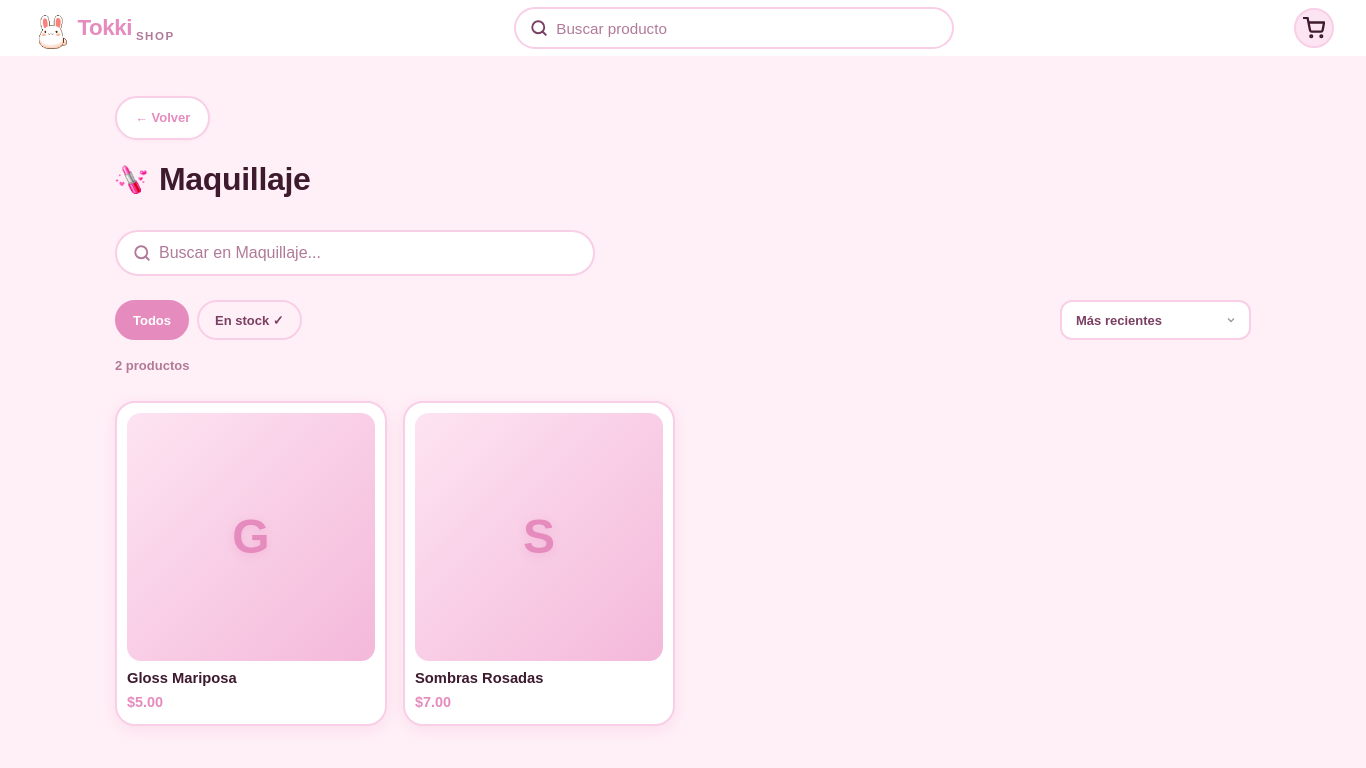
CategoryPage — búsqueda por nombre + descripción › mantiene visible el producto cuyo término solo aparece en la descripción
Expected: the text "Gloss Mariposa" is shown, [127, 670, 237, 686]
Expected: the text "Sombras Rosadas" is shown, [415, 670, 543, 686]
In the field with placeholder "Buscar en Maquillaje...": (368, 253) [159, 244, 577, 262], type "hidratante"
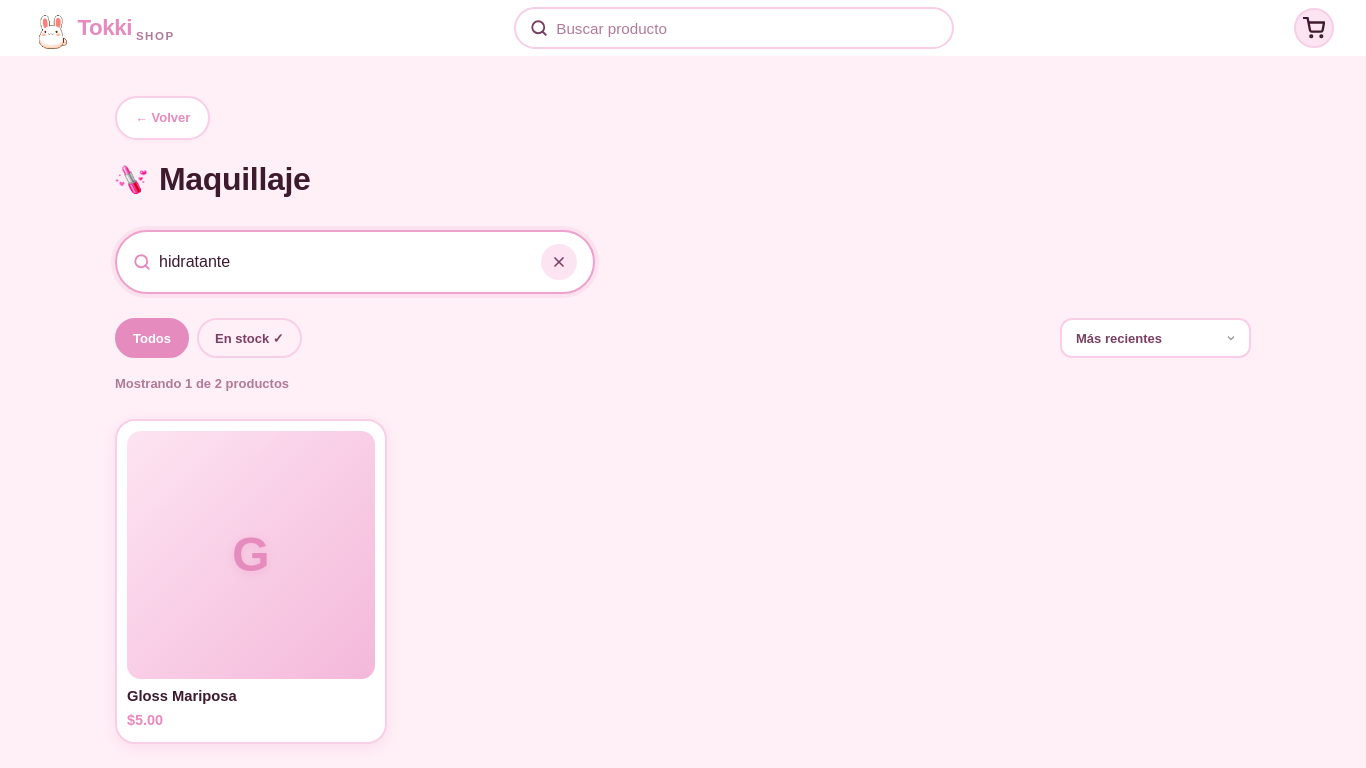
Expected: the text "Gloss Mariposa" is shown, [127, 688, 237, 704]
Result: the link "Sombras Rosadas" is gone
Result: the text "Mostrando 1 de 2 productos" is shown at [115, 376, 289, 391]
